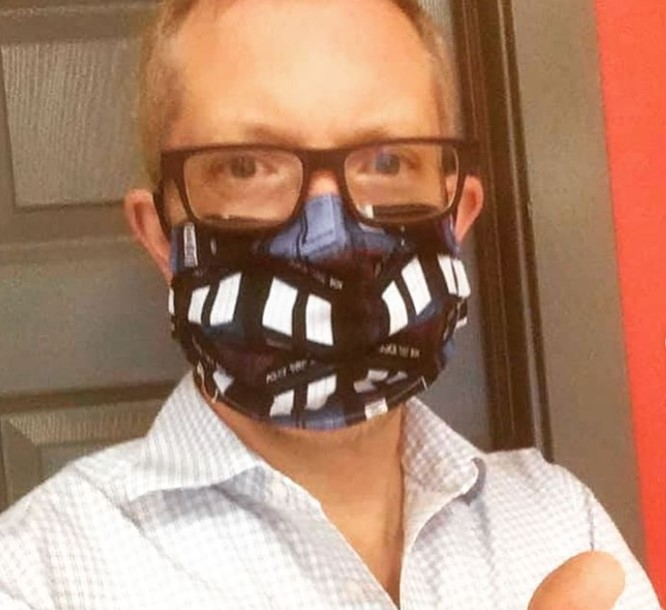face_with_mask: (122, 3, 492, 443)
